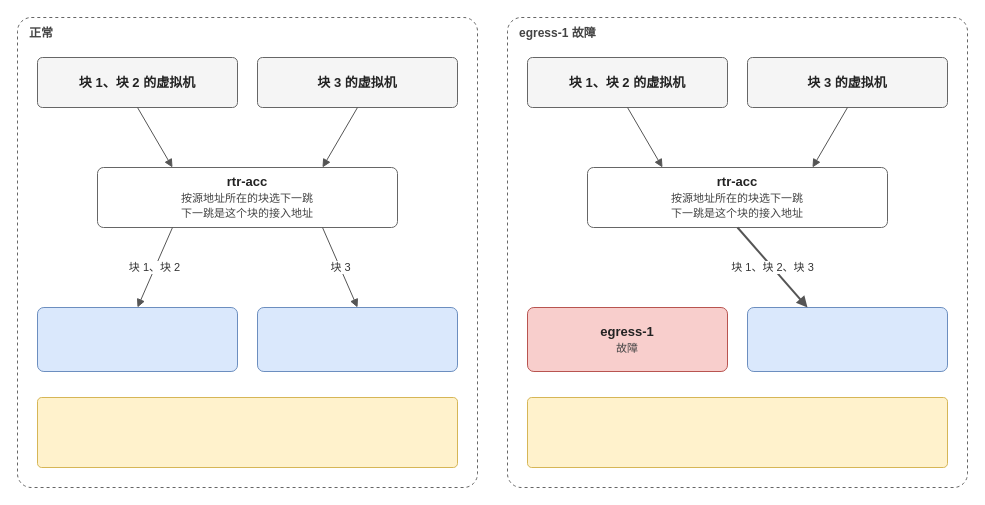
The diagram is 985 pixels wide and 505 high, and some of its shapes have lost their labels. The centre of each missing label's shape, as x and y in pixels:
egress-1 持有块 1、块 2 的接入地址: pixel 137 339
egress-2 三个块的接入地址都在这里: pixel 847 339
egress-2 持有块 3 的接入地址: pixel 357 339
块 1、块 2 的接入地址漂到 egress-2，已有连接中断后重连。 块 3 的连接不受影响。: pixel 737 432
每个块只走一台 Egress，去程和回程都经过它。 两台 Egress 互为热备，各自预留对方的容量。: pixel 247 432
